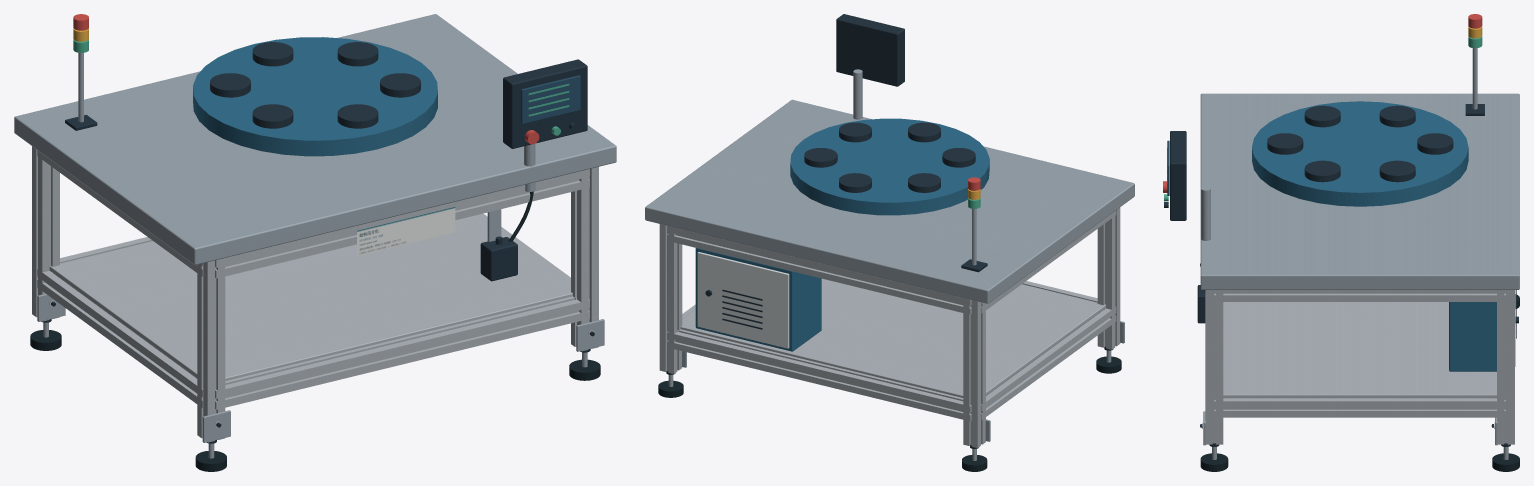
The model's file is tablet-press-cell.glb.
The picture shows the model from 3 angles, left to right: view 1: azimuth 30°, elevation 25°; view 2: azimuth 150°, elevation 25°; view 3: azimuth 270°, elevation 25°; orthographic projection. The views are drawn at different scales.
Parts seen in each view (by area): view 1: ClosedMachineBed_40, LowerShelf_41, IndexDisc_71, SlottedExtrusion_34, SlottedExtrusion_35, SlottedExtrusion_11, SlottedExtrusion_36, SlottedExtrusion_27, ConsoleBack_52, SlottedExtrusion_3, OriginalNameplate_65, Screen_53 (+10 smaller); view 2: ClosedMachineBed_40, LowerShelf_41, IndexDisc_71, BackDoor_43, SlottedExtrusion_32, SlottedExtrusion_33, ConsoleBack_52, SlottedExtrusion_3, SlottedExtrusion_19, Cabinet_42, SlottedExtrusion_36, SlottedExtrusion_11 (+7 smaller); view 3: ClosedMachineBed_40, LowerShelf_41, IndexDisc_71, SlottedExtrusion_38, SlottedExtrusion_39, Cabinet_42, SlottedExtrusion_27, SlottedExtrusion_19, ConsoleBack_52, IndexNest_73, IndexNest_76, IndexNest_77 (+6 smaller).
Boxes of the visible parts, x1,y1,x2,y2 form: ClosedMachineBed_40: [14, 14, 616, 264]; LowerShelf_41: [49, 215, 572, 380]; IndexDisc_71: [193, 37, 437, 156]; SlottedExtrusion_34: [215, 296, 589, 409]; SlottedExtrusion_35: [215, 169, 589, 278]; SlottedExtrusion_11: [197, 258, 225, 442]; SlottedExtrusion_36: [37, 268, 203, 408]; SlottedExtrusion_27: [571, 167, 598, 351]; ConsoleBack_52: [503, 59, 587, 148]; SlottedExtrusion_3: [32, 146, 59, 321]; OriginalNameplate_65: [357, 207, 455, 256]; Screen_53: [521, 75, 580, 123]; ClosedMachineBed_40: [645, 99, 1134, 303]; LowerShelf_41: [680, 278, 1105, 397]; IndexDisc_71: [790, 118, 989, 215]; BackDoor_43: [697, 252, 789, 348]; SlottedExtrusion_32: [667, 329, 971, 421]; SlottedExtrusion_33: [667, 225, 971, 314]; ConsoleBack_52: [836, 14, 904, 86]; SlottedExtrusion_3: [963, 298, 985, 447]; SlottedExtrusion_19: [659, 224, 682, 373]; Cabinet_42: [695, 248, 821, 351]; SlottedExtrusion_36: [981, 306, 1116, 419]; SlottedExtrusion_11: [1097, 207, 1120, 349]; ClosedMachineBed_40: [1200, 93, 1519, 289]; LowerShelf_41: [1223, 302, 1496, 398]; IndexDisc_71: [1252, 101, 1468, 206]; SlottedExtrusion_38: [1214, 398, 1505, 417]; SlottedExtrusion_39: [1214, 290, 1505, 301]; Cabinet_42: [1449, 302, 1496, 371]; SlottedExtrusion_27: [1205, 290, 1223, 444]; SlottedExtrusion_19: [1497, 290, 1514, 444]; ConsoleBack_52: [1170, 131, 1186, 220]; IndexNest_73: [1267, 133, 1303, 154]; IndexNest_76: [1417, 133, 1453, 154]; IndexNest_77: [1379, 105, 1415, 127].
Bounding box in the file's own units: 1.55 × 1.18 × 1.29.
Materials: 11 (3 with a texture image).
